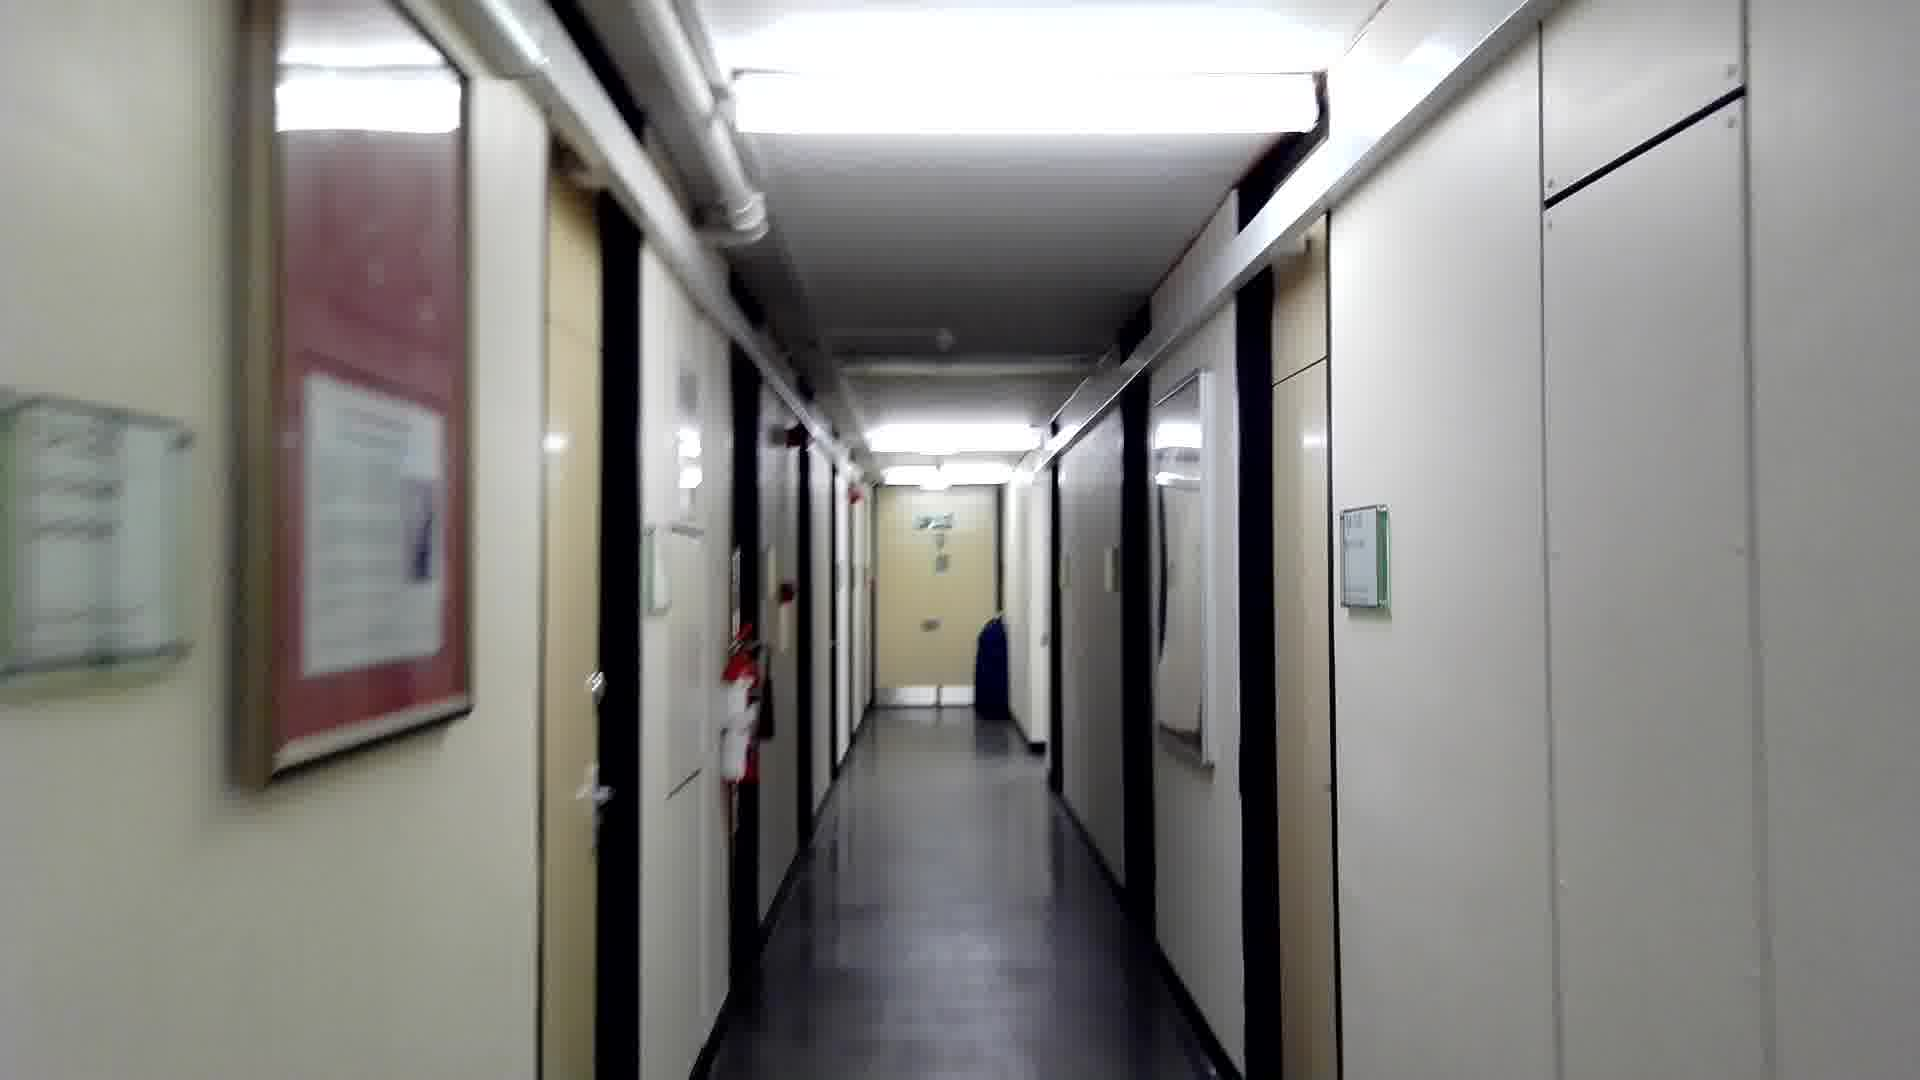Bin: (978, 612, 1013, 729)
Door: (539, 102, 651, 1080), (1232, 189, 1337, 1080)
